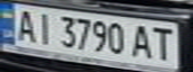0: (106, 20, 130, 56)
3: (54, 14, 78, 50)
7: (72, 16, 93, 52)
9: (90, 18, 109, 54)
A: (127, 22, 157, 60), (12, 7, 39, 44)
I: (30, 10, 57, 46)
T: (148, 25, 178, 62)
